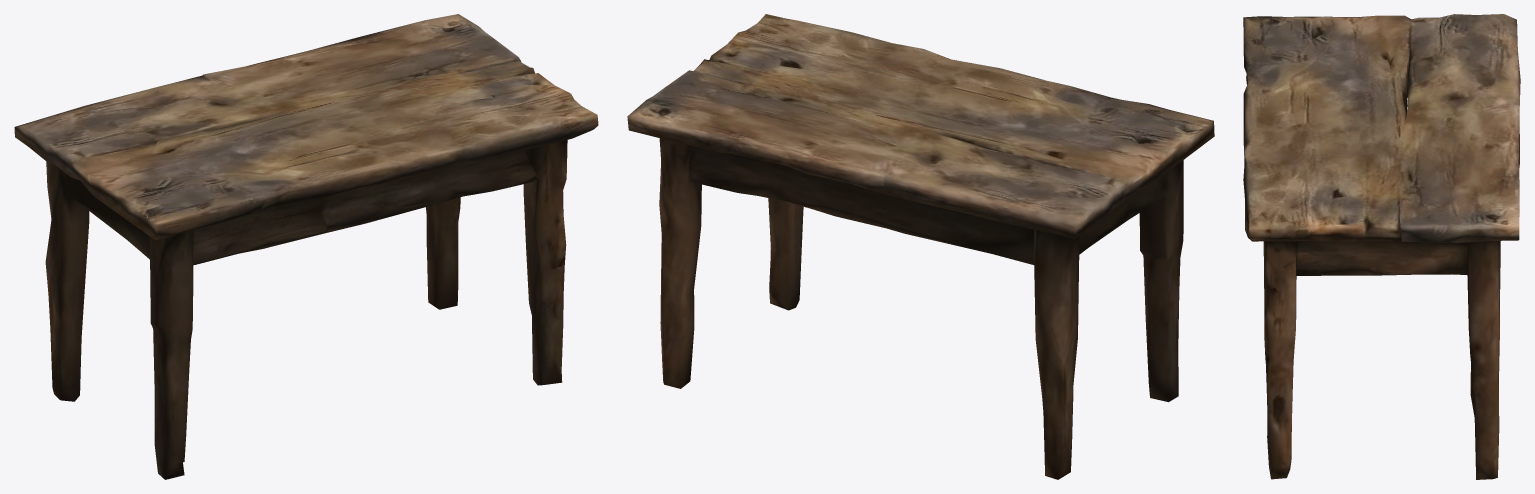
Rendered from e_table.glb.
The picture shows the model from 3 angles, left to right: view 1: azimuth 30°, elevation 25°; view 2: azimuth 150°, elevation 25°; view 3: azimuth 270°, elevation 25°; orthographic projection. The views are drawn at different scales.
Visible parts, largest first — view 1: tripo_node_524697e0-82e1-4322-96b2-d49224741ba7; view 2: tripo_node_524697e0-82e1-4322-96b2-d49224741ba7; view 3: tripo_node_524697e0-82e1-4322-96b2-d49224741ba7.
Part boxes in pixels (x1,y1,x2,y2): tripo_node_524697e0-82e1-4322-96b2-d49224741ba7: (14, 14, 598, 479); tripo_node_524697e0-82e1-4322-96b2-d49224741ba7: (627, 14, 1214, 479); tripo_node_524697e0-82e1-4322-96b2-d49224741ba7: (1243, 14, 1520, 479).
Bounding box in the file's own units: 1 × 0.5827 × 0.5496.
Materials: 1 (1 with a texture image).
